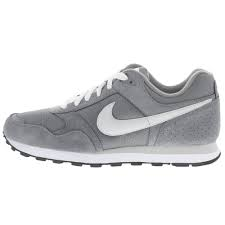nike: (96, 97, 215, 138)
